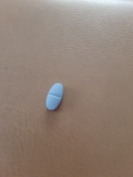Majezik: (44, 81, 64, 112)
